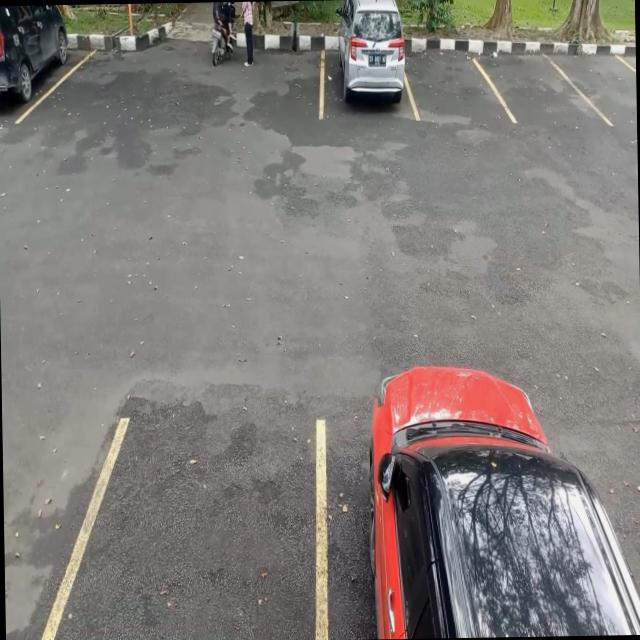car: (319, 12, 412, 120), (0, 9, 70, 125)
free: (80, 415, 327, 640), (406, 30, 498, 124), (494, 36, 584, 126), (576, 38, 637, 126)
